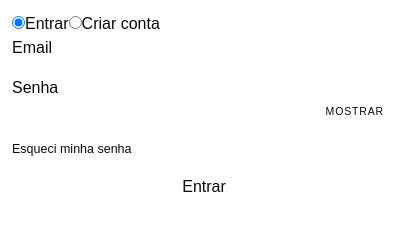
it: LoginForm — modo Entrar › clicar em "Esqueci minha senha" abre o Passo 1/3 do fluxo de recuperação
Click the button "Esqueci minha senha". click: (72, 149)
box: [12, 140, 132, 159]
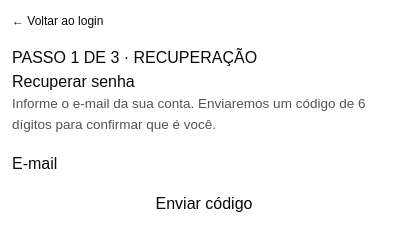
Check: the heading "Recuperar senha" is shown, box [12, 73, 135, 90]
Check: the field labelled "E-mail" is shown, box [57, 152, 264, 176]
